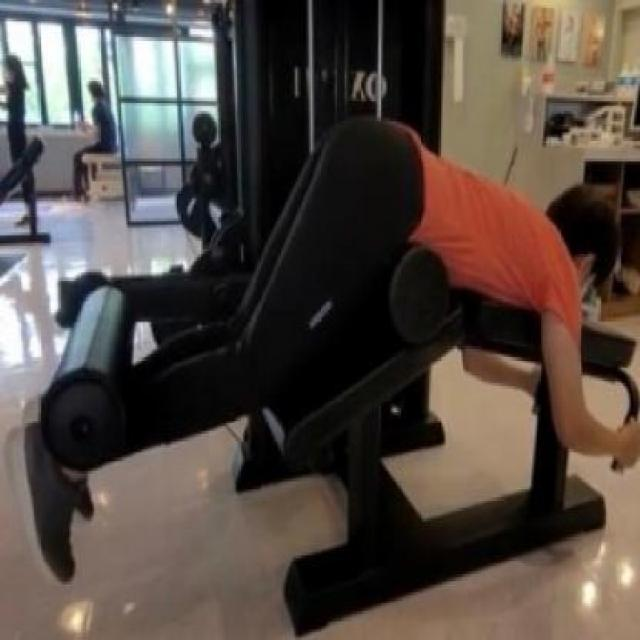reg curl machine: (21, 0, 637, 637)
